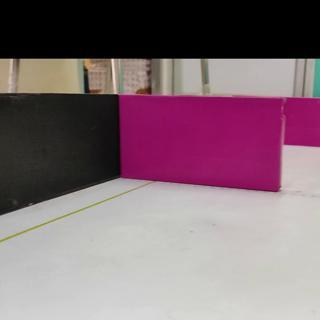xparking: (123, 97, 279, 190), (283, 99, 318, 145)
